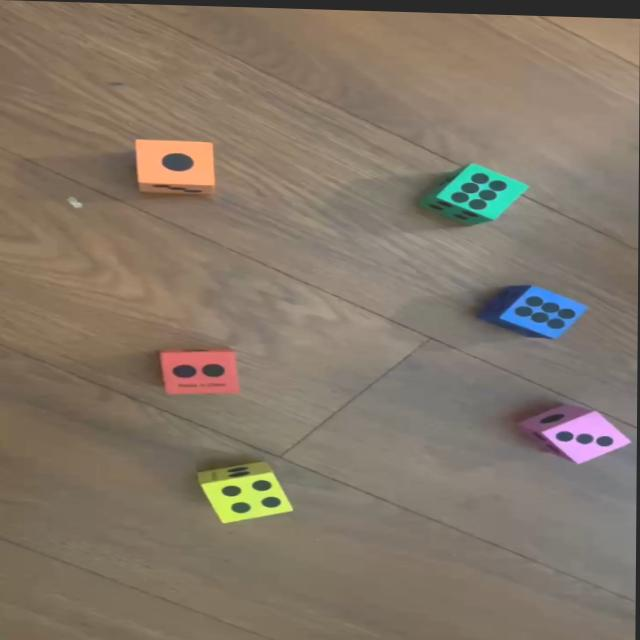cube: (425, 159, 534, 229), (485, 278, 595, 343), (157, 340, 243, 399)
